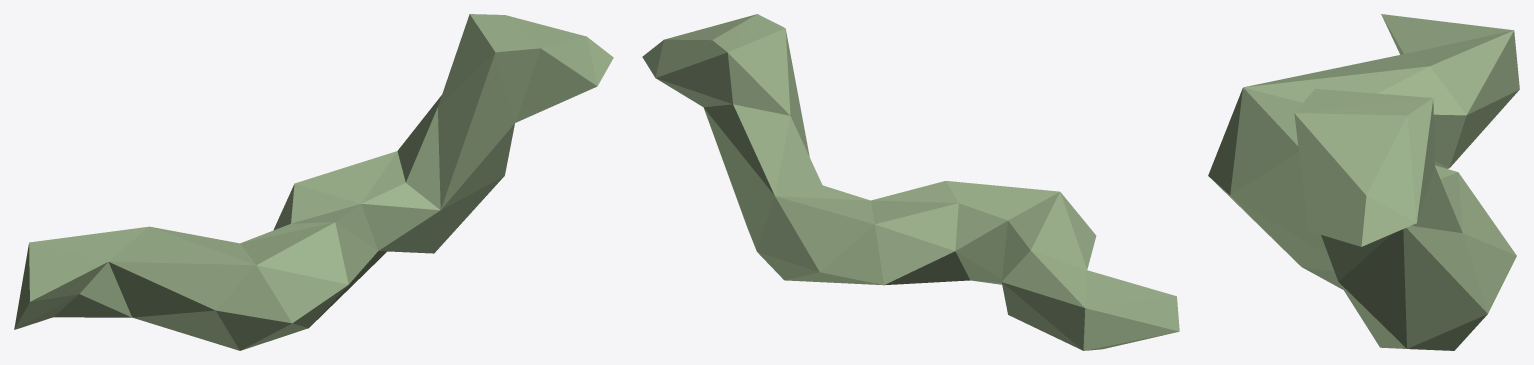
3 views of the same model, side by side, from view 1: azimuth 30°, elevation 25°; view 2: azimuth 150°, elevation 25°; view 3: azimuth 270°, elevation 25° (orthographic). The views are drawn at different scales.
Visible parts, largest first — view 1: part0; view 2: part0; view 3: part0.
Part boxes in pixels (x1=…): part0: x1=14, y1=14, x2=613, y2=350; part0: x1=642, y1=14, x2=1179, y2=350; part0: x1=1208, y1=14, x2=1519, y2=350.
Bounding box in the file's own units: 5.54 × 2.06 × 1.89.
